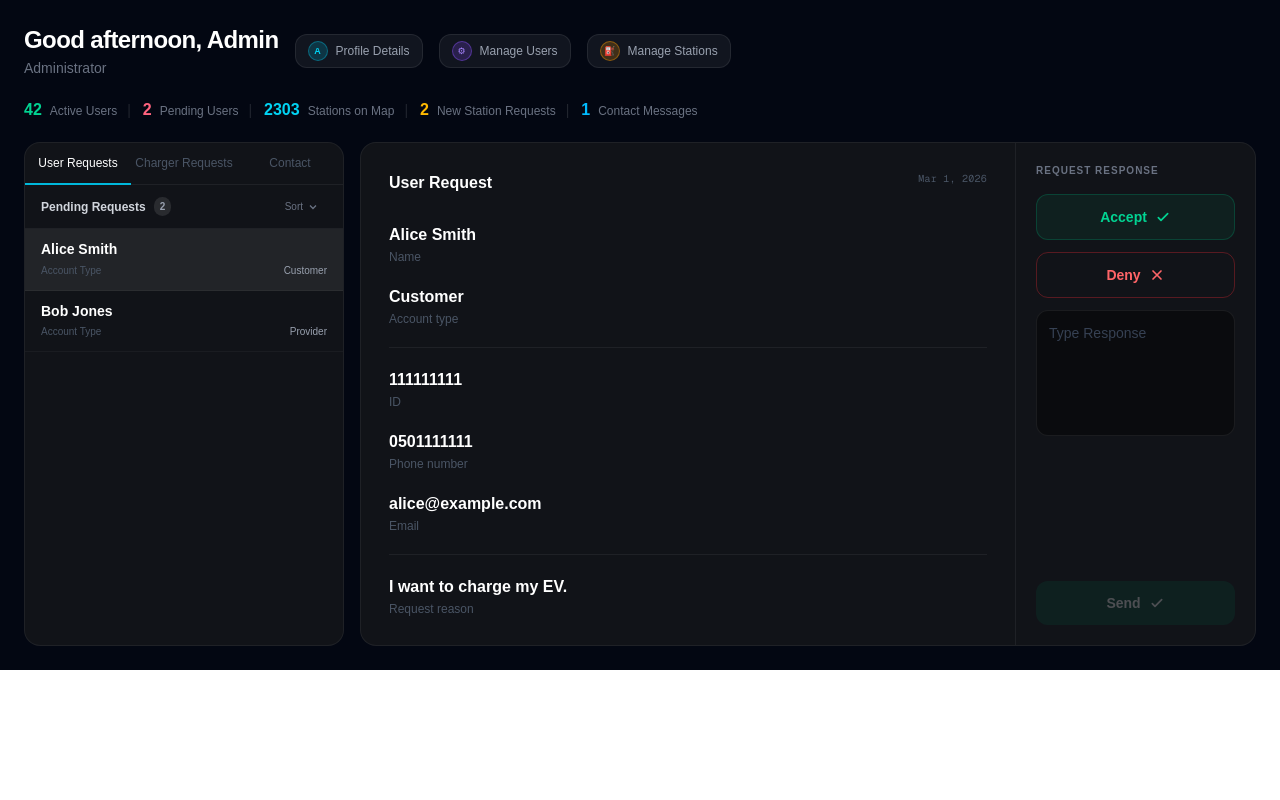
Test: sort order › closes the sort dropdown after selecting an option
Click the button "Sort": coordinates (302, 206) [277,195,327,218]
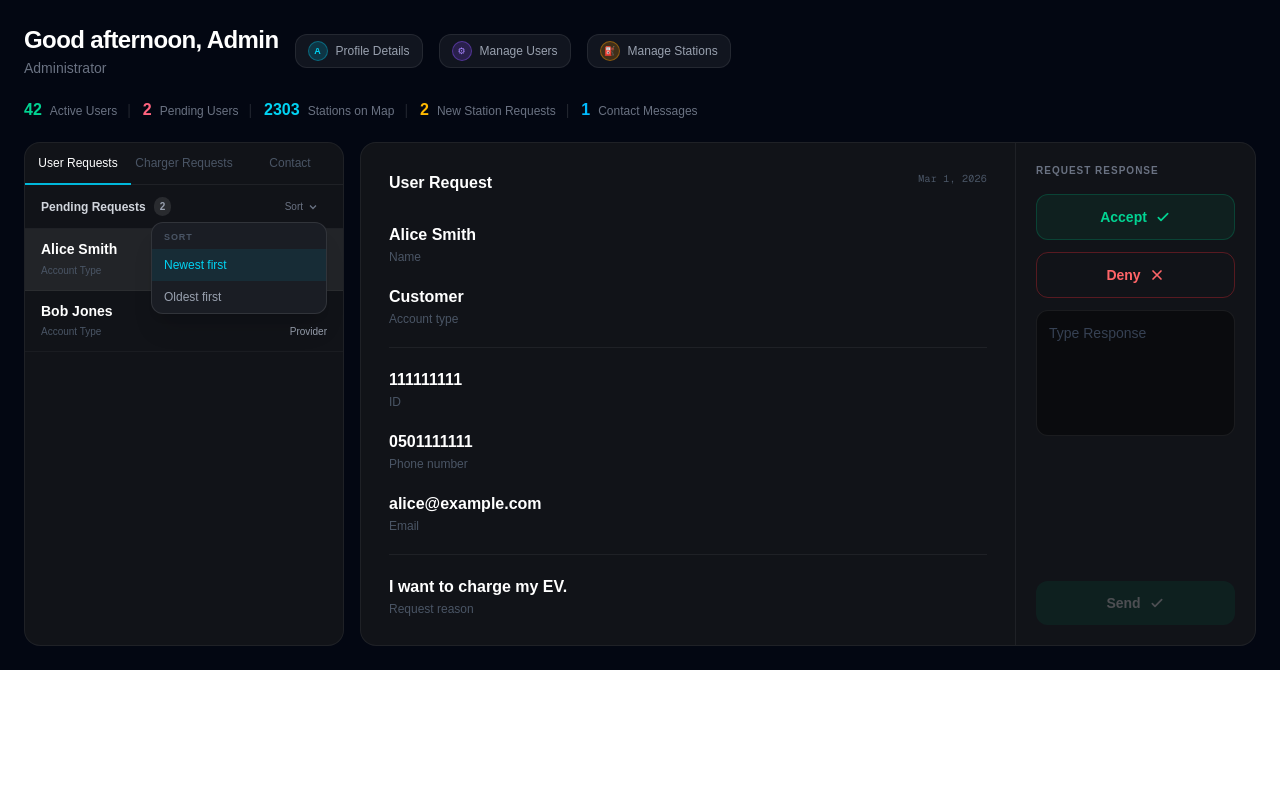
Click the button "Oldest first": coordinates (239, 296) [152,280,326,312]
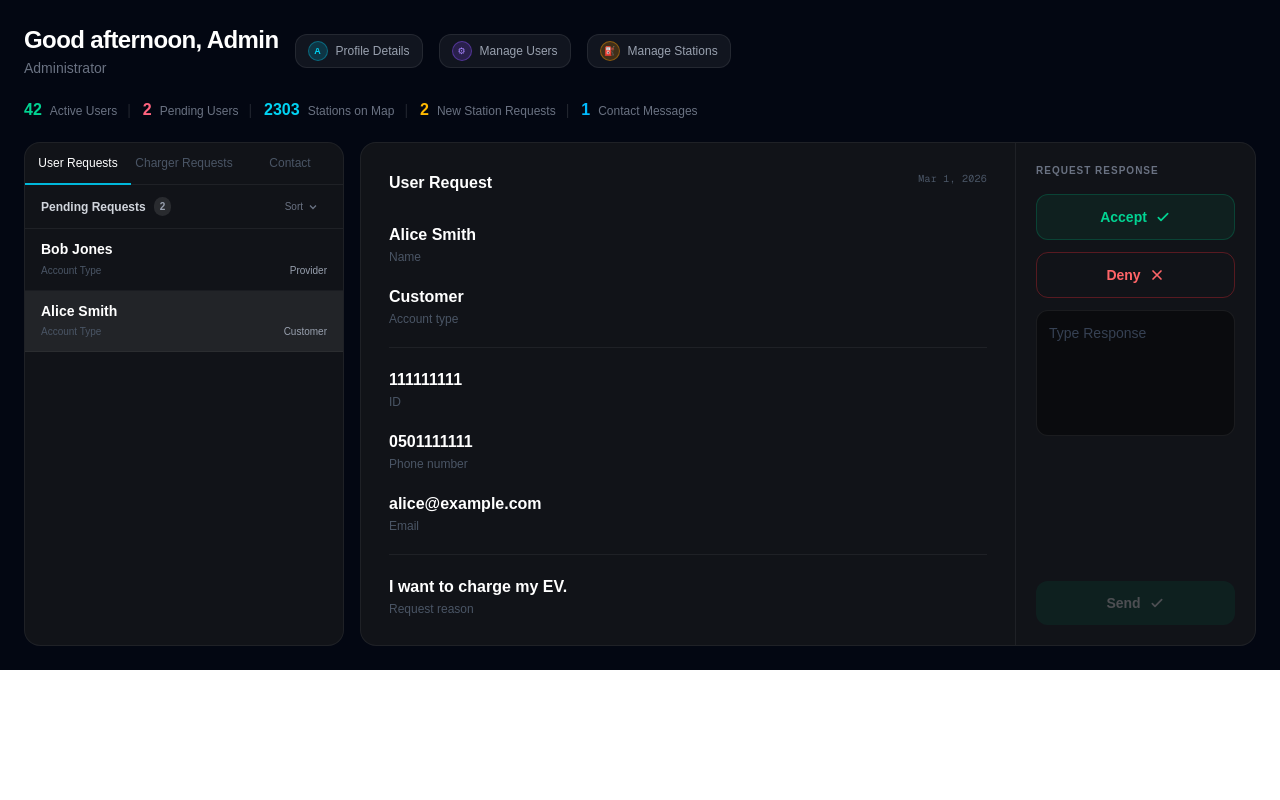
Expected: the button "Newest first" is gone
